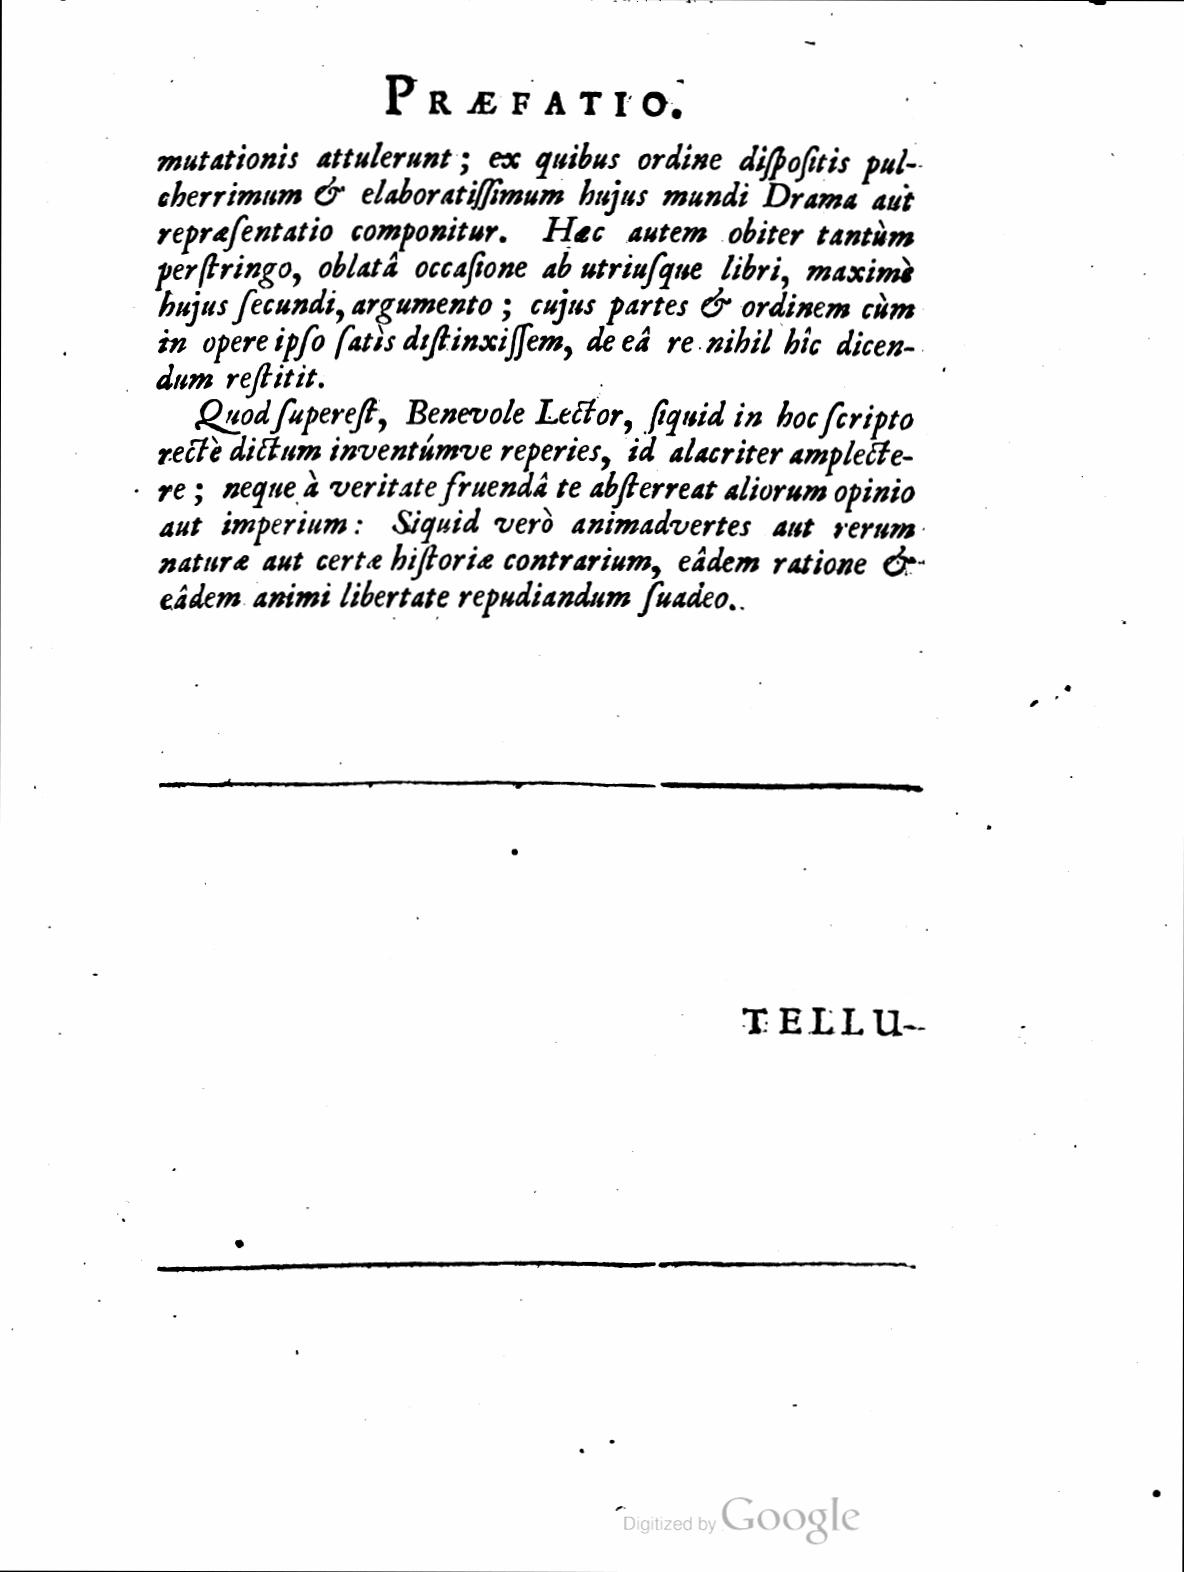bottom_p: (152, 146, 918, 395)
catchword: (740, 1000, 922, 1040)
full_p: (155, 395, 922, 618)
header: (381, 68, 688, 126)
